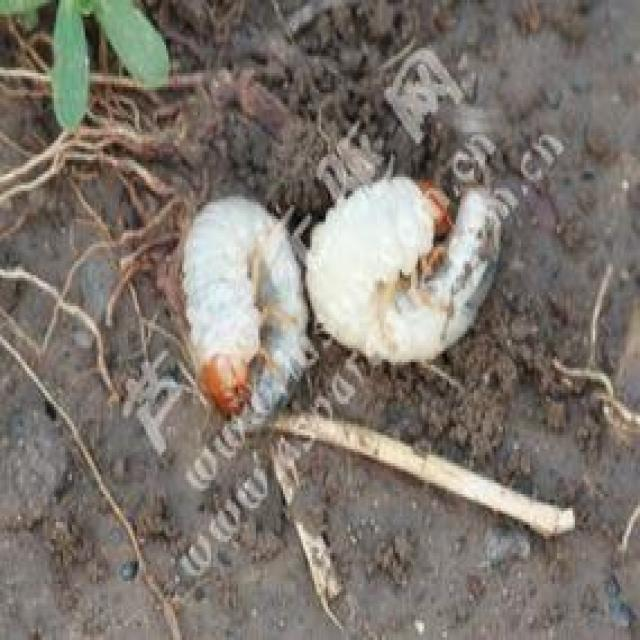Grub-Adult-: (306, 158, 510, 366), (173, 175, 317, 424)
